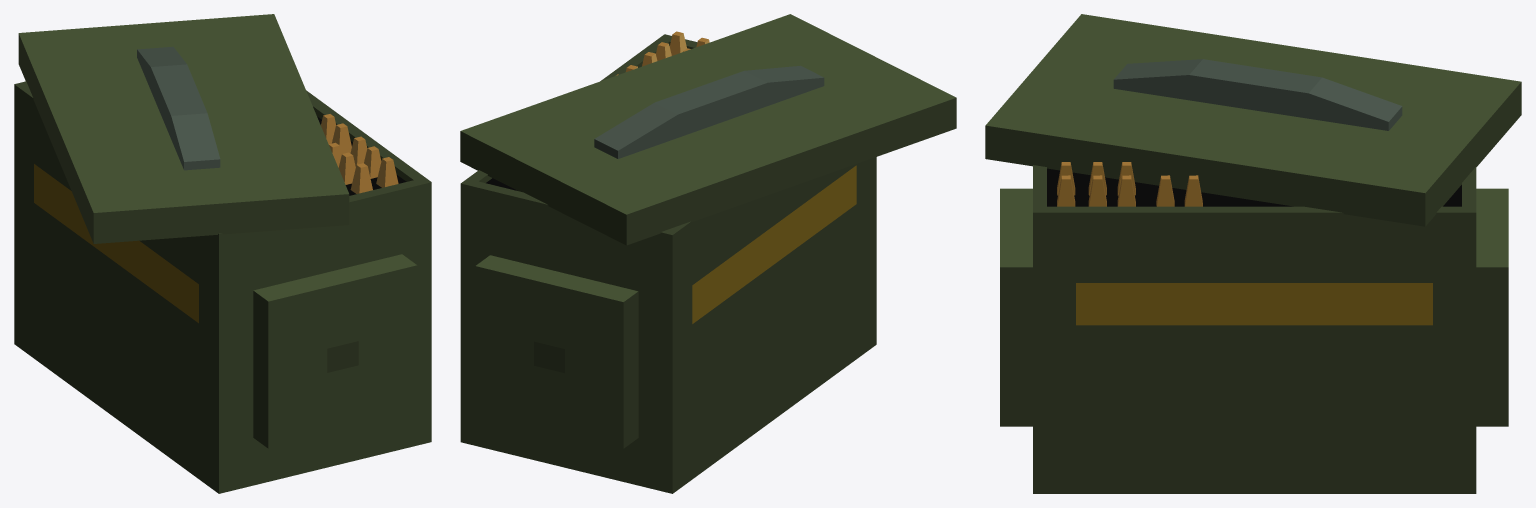
The model's file is AmmoBox_Rifle.fbx.
The picture shows the model from 3 angles, left to right: view 1: azimuth 30°, elevation 25°; view 2: azimuth 150°, elevation 25°; view 3: azimuth 270°, elevation 25°; orthographic projection. The views are drawn at different scales.
Visible parts, largest first — view 1: AmmoBox_Rifle; view 2: AmmoBox_Rifle; view 3: AmmoBox_Rifle.
Boxes of the visible parts, x1,y1,x2,y2 form: AmmoBox_Rifle: (14, 14, 431, 493); AmmoBox_Rifle: (460, 14, 956, 493); AmmoBox_Rifle: (985, 14, 1521, 493).
Bounding box in the file's own units: 95.69 × 84.32 × 121.
